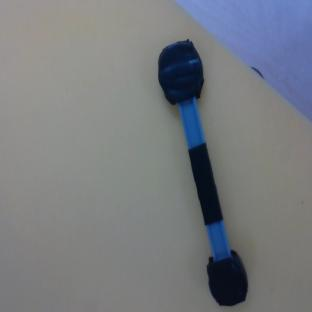part_3_bad: (151, 37, 252, 311)
